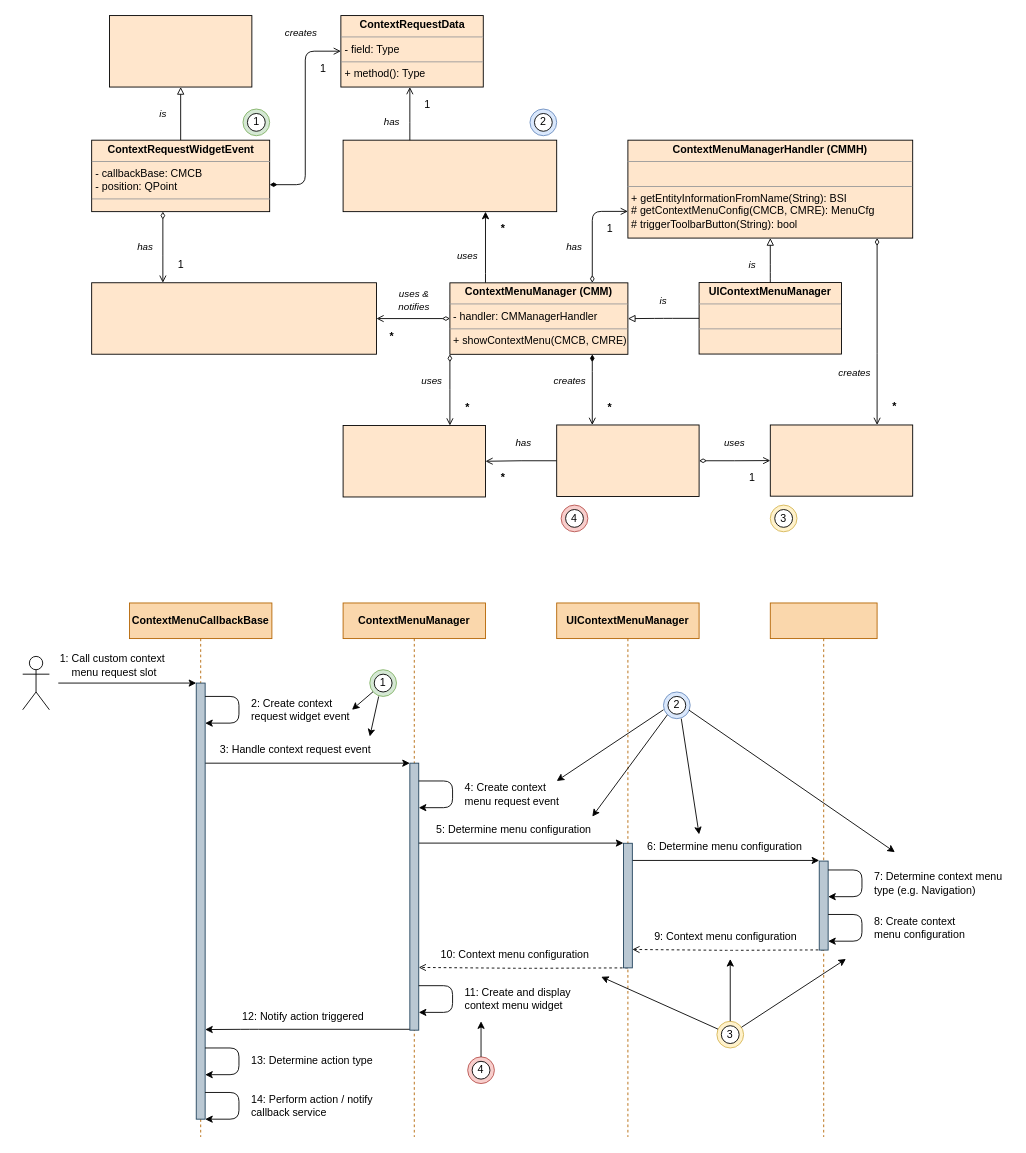
Image size: 1026x1153. Some labels were removed from this diagram. Each missing label, with the centre of its shape:
"ContextMenu" belongs at [627,460].
"ContextMenuAction" belongs at [413,461].
"ContextMenuCallbackBase (CMCB) - + handleContextActionTriggered(CMA, CMRE, CMMH)" belongs at [233,318].
"ContextMenuRequestEvent (CMRE) - data: ContextRequestData" belongs at [449,175].
"MenuCfg" belongs at [841,460].
"Model Service" belongs at [823,869].
"QWidget" belongs at [35,682].
"WidgetEvent - widget: QWidget" belongs at [180,51].
